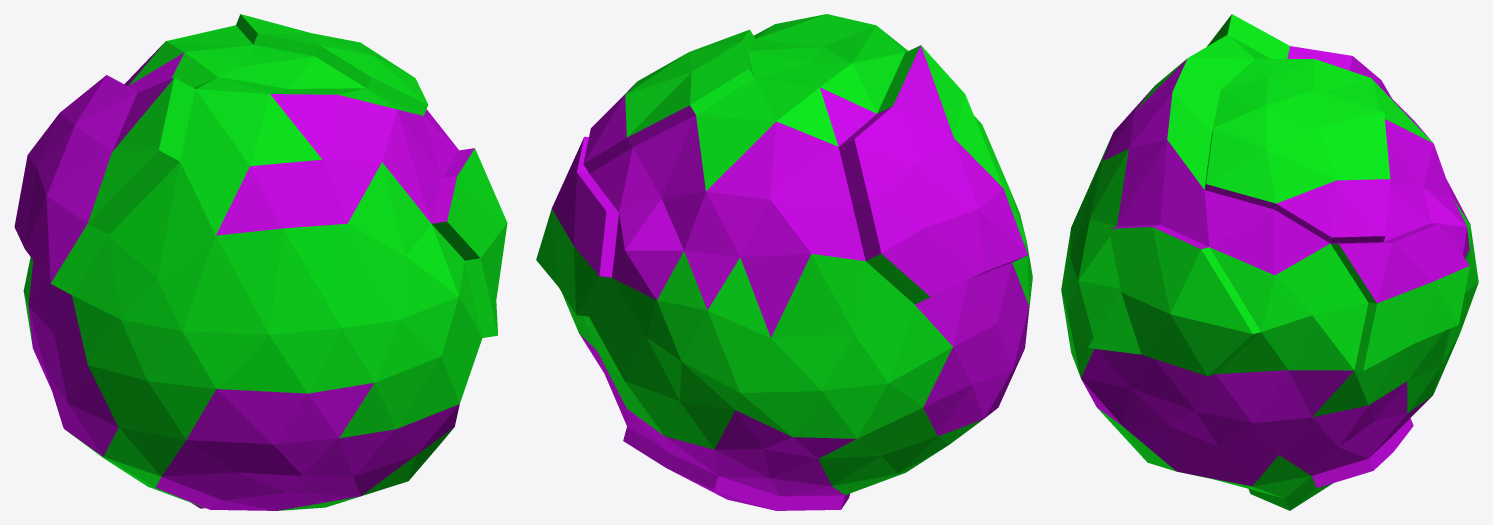
The picture shows the model from 3 angles, left to right: view 1: azimuth 30°, elevation 25°; view 2: azimuth 150°, elevation 25°; view 3: azimuth 270°, elevation 25°; orthographic projection. The views are drawn at different scales.
Visible parts, largest first — view 1: Icosphere; view 2: Icosphere; view 3: Icosphere.
Boxes of the visible parts, x1,y1,x2,y2 form: Icosphere: (14,14,507,510); Icosphere: (536,14,1032,510); Icosphere: (1061,14,1478,510).
Size of the model in its own units: 225 by 228 by 206.
